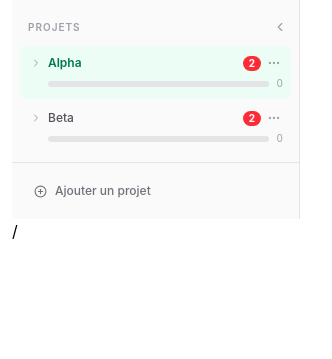
Test case: WorkspaceSidebar › attention › expands independently, one title per change and one line per signal
Expected: the text "fix-export" is not shown
Click the 1st button named "Déplier les actions en attente".
click(36, 63)  # box [28,55,44,71]
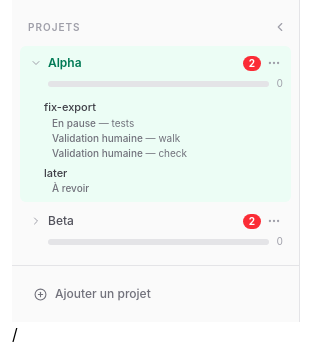
Expected: the number of buttons named "Déplier les actions en attente" is 1, [28,213,44,229]
Now the number of buttons "fix-export" is 1, box [44,99,287,116]
Now the number of elements with test id "signal-line" is 4, box [52,116,134,128]; [52,132,180,144]; [52,146,187,158]; [52,182,89,194]
